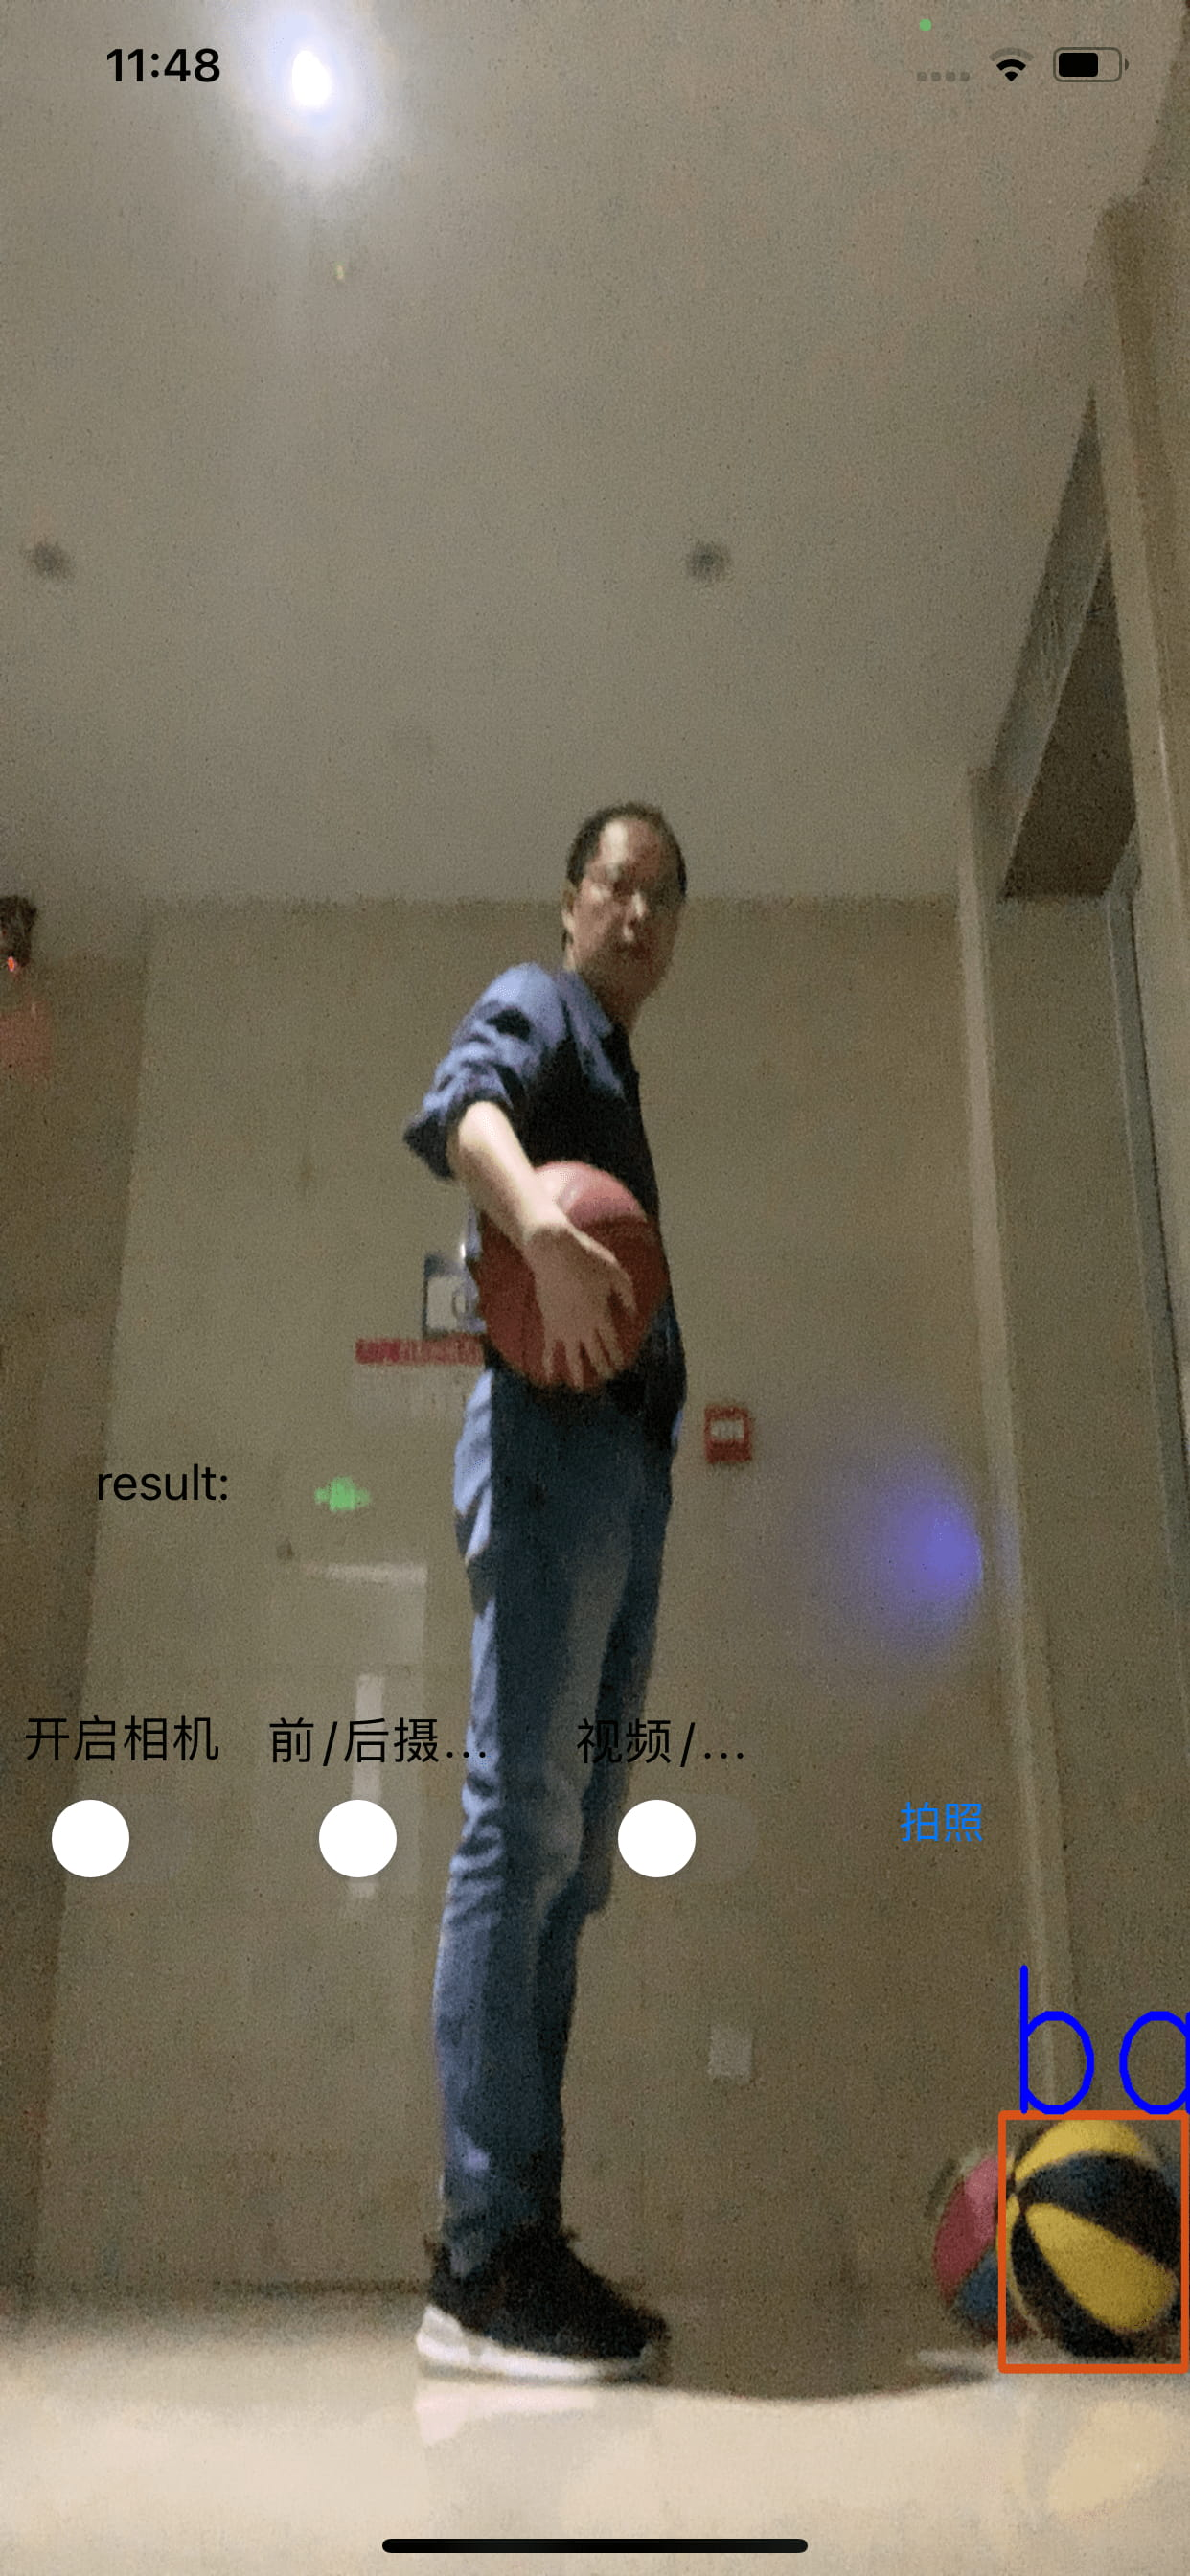ball: (480, 1161, 669, 1383), (1011, 2118, 1187, 2353), (920, 2142, 1032, 2348)
